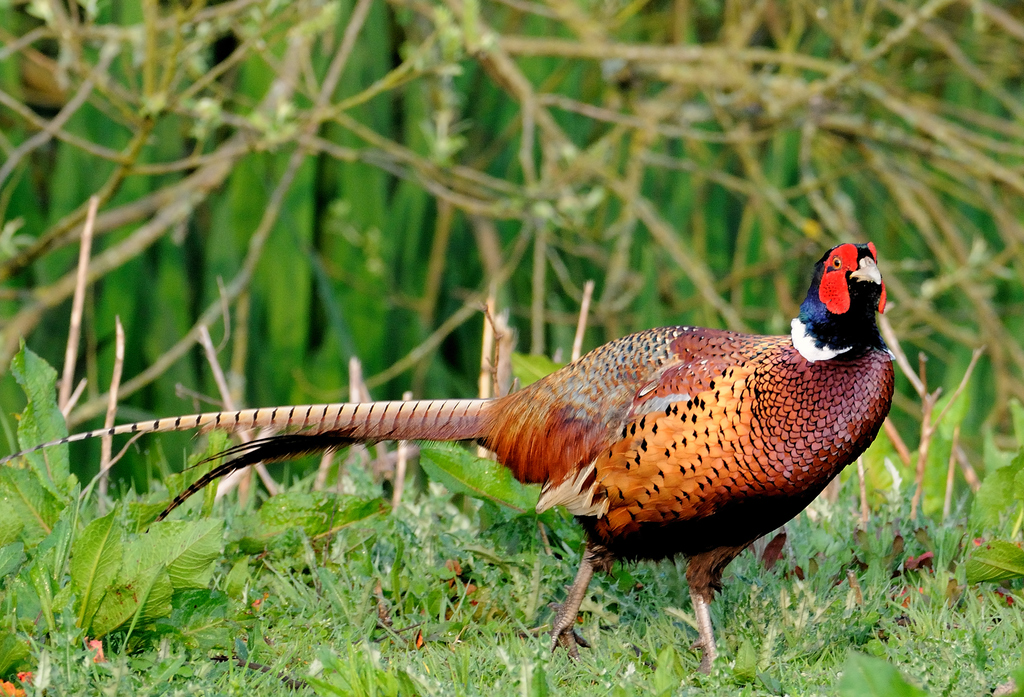Bird: (0, 241, 896, 677)
